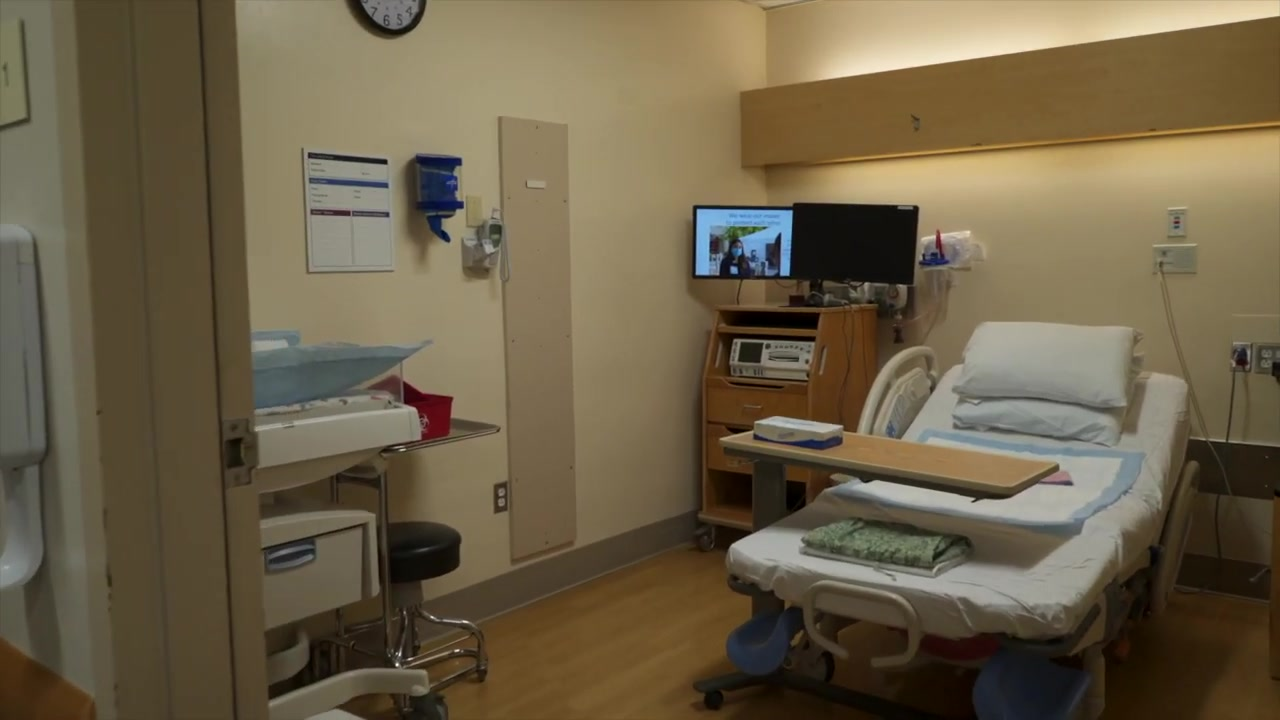bedrail: (856, 345, 940, 444), (1156, 459, 1201, 619)
bedside_monitor: (790, 202, 918, 284), (691, 205, 794, 280)
chair: (378, 522, 487, 720)
dispenser: (1, 215, 48, 600), (404, 151, 464, 243)
handle: (265, 539, 318, 575), (738, 403, 765, 409)
hospital_bed: (730, 318, 1190, 642)
overbed_table: (722, 416, 1059, 709)
panda_baby_warmer: (251, 329, 429, 720)
telephone: (469, 213, 519, 286)
utility_cart: (335, 414, 512, 720)
